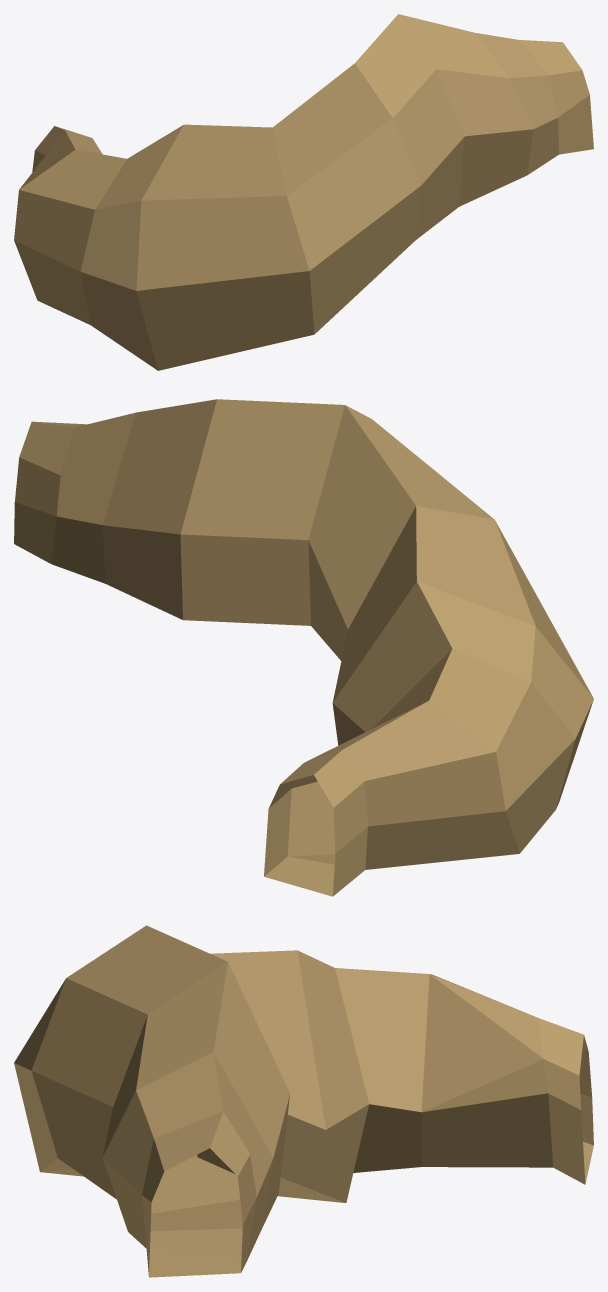
Rendered from Tunnel-B01.fbx.
The picture shows the model from 3 angles, top to bottom: view 1: azimuth 30°, elevation 25°; view 2: azimuth 150°, elevation 25°; view 3: azimuth 270°, elevation 25°; orthographic projection. The views are drawn at different scales.
Parts seen in each view (by area): view 1: Tunnel-B01; view 2: Tunnel-B01; view 3: Tunnel-B01.
Boxes of the visible parts, <box> form: Tunnel-B01: <box>14,14,593,370</box>; Tunnel-B01: <box>14,399,593,896</box>; Tunnel-B01: <box>14,925,593,1277</box>.
Size of the model in its own units: 1061 by 1350 by 758.
